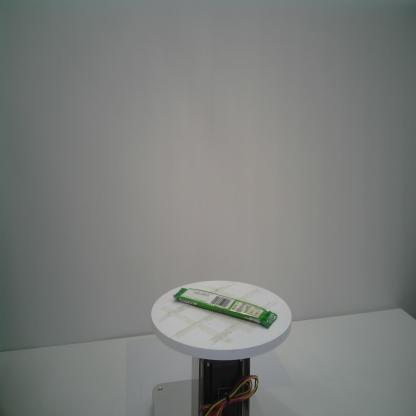Chocolate: (170, 284, 280, 330)
